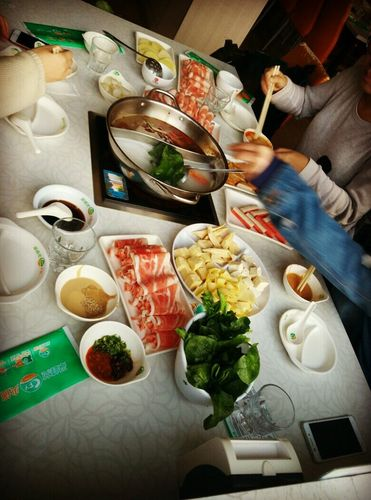food: (105, 94, 227, 207), (96, 228, 190, 352), (170, 220, 273, 320), (75, 315, 149, 386), (169, 48, 222, 132), (54, 259, 119, 321)
